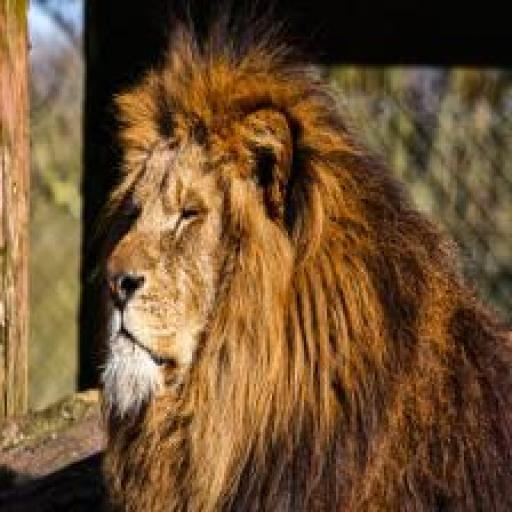lion: (84, 27, 502, 502)
